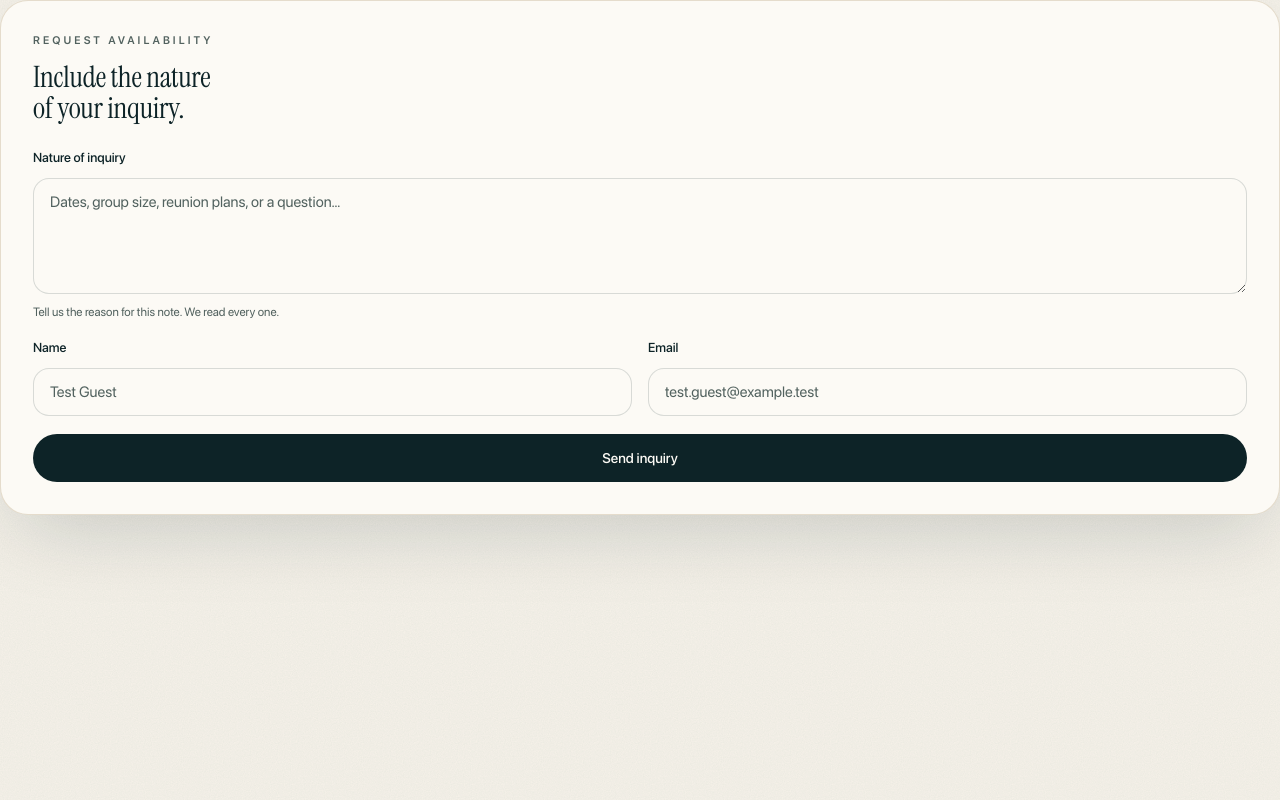
Test: InquiryForm generate_lead › fires nothing on an invalid submit
Click the button with test id "inquiry-submit" at [640, 458], box [33, 434, 1247, 482]
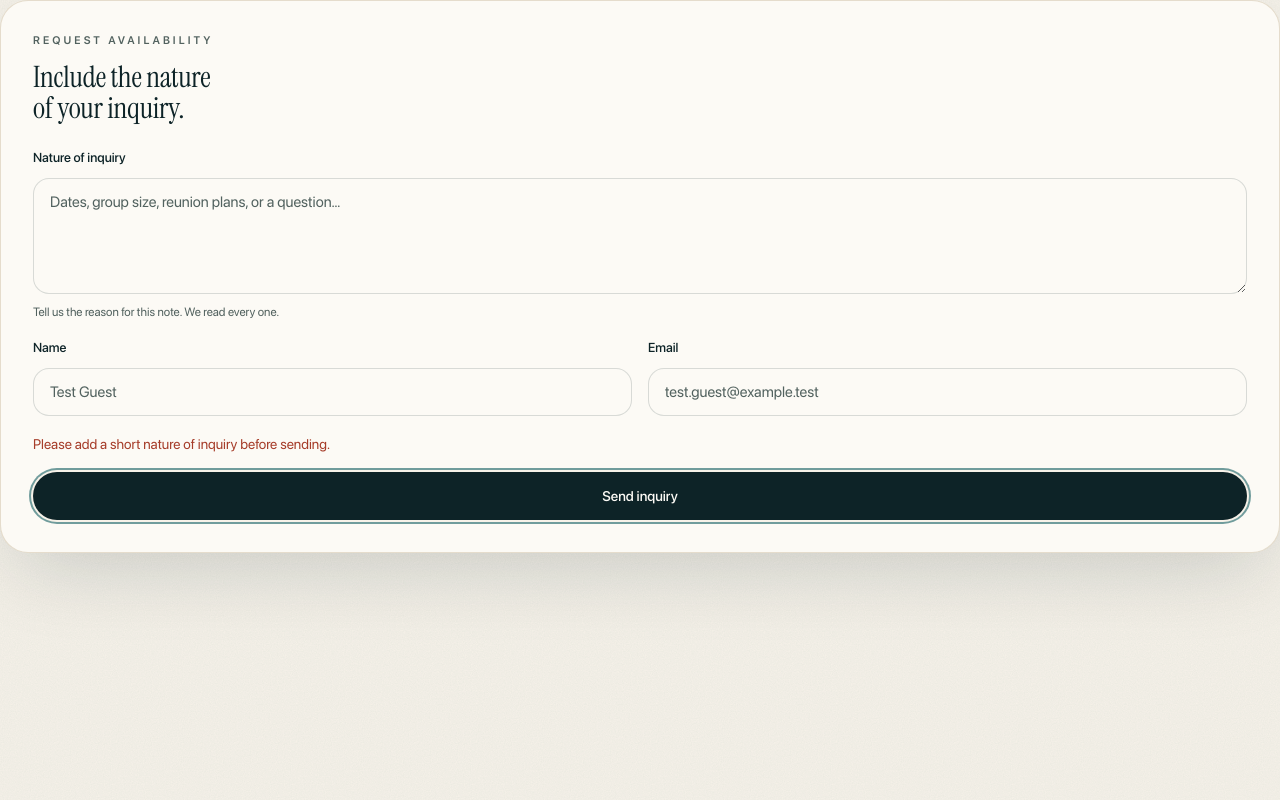
Now the message with test id "inquiry-error" shows "nature of inquiry", box [33, 436, 330, 452]
